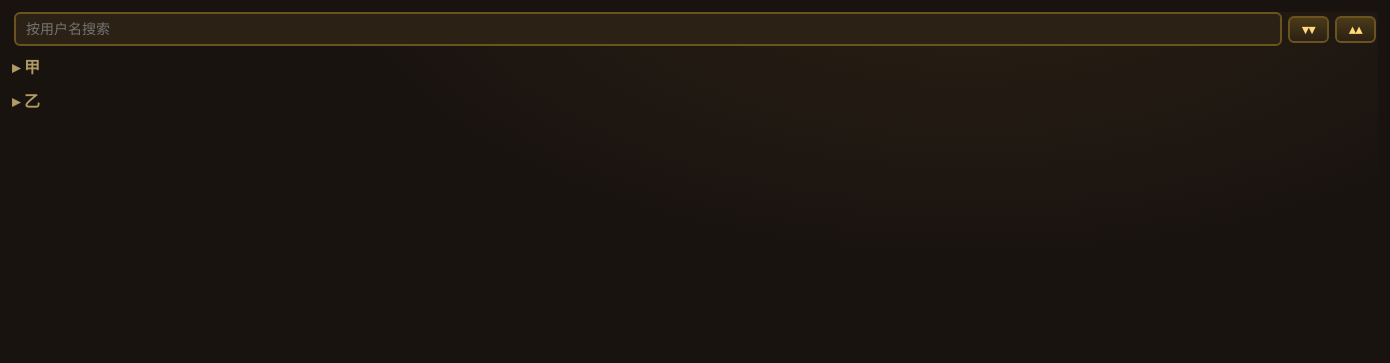
it: 角色行波次标签 › 已占位角色显示 第N波
Click the button "▾▾": x=1308, y=29 [1288,16,1329,42]
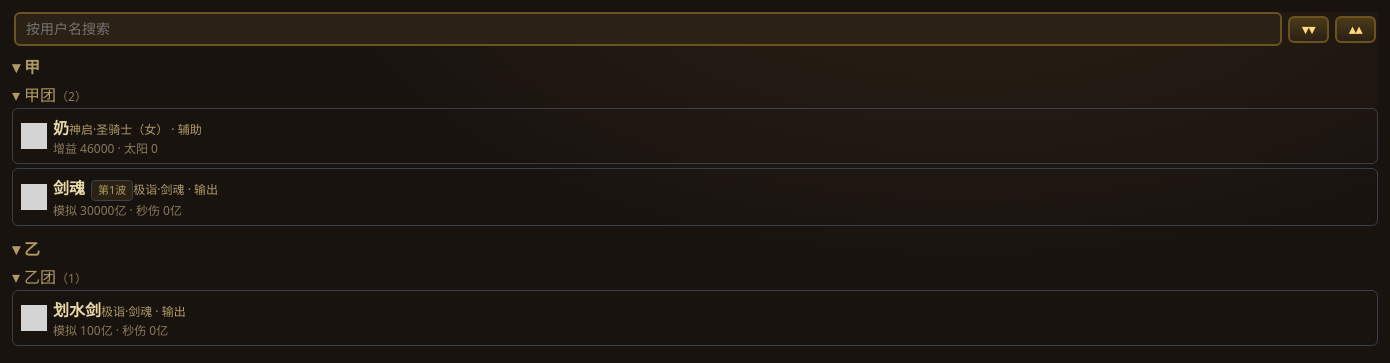
Check: the element showing "剑魂 第1波 极诣·剑魂 · 输出 模拟 30000亿 · 秒伤 0亿" is shown, box [12,168,1378,226]
